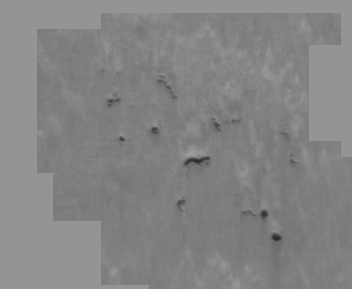oxl: (35, 10, 317, 279)
